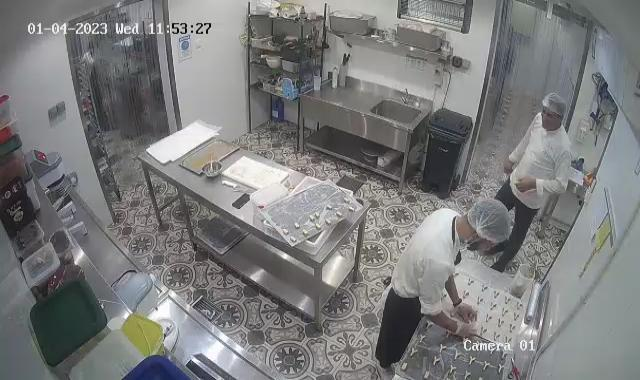hairnet: (468, 197, 514, 245), (543, 94, 565, 125)
